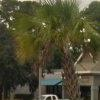Tree: (11, 2, 100, 87)
